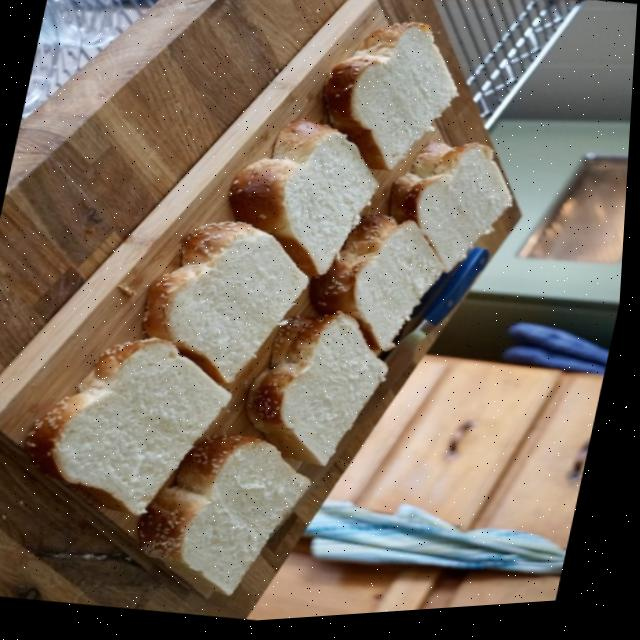Bread: (31, 341, 234, 517), (145, 439, 315, 599), (147, 225, 311, 387), (233, 124, 380, 281), (251, 317, 393, 469), (326, 28, 458, 175), (313, 221, 446, 357), (392, 149, 515, 276)
